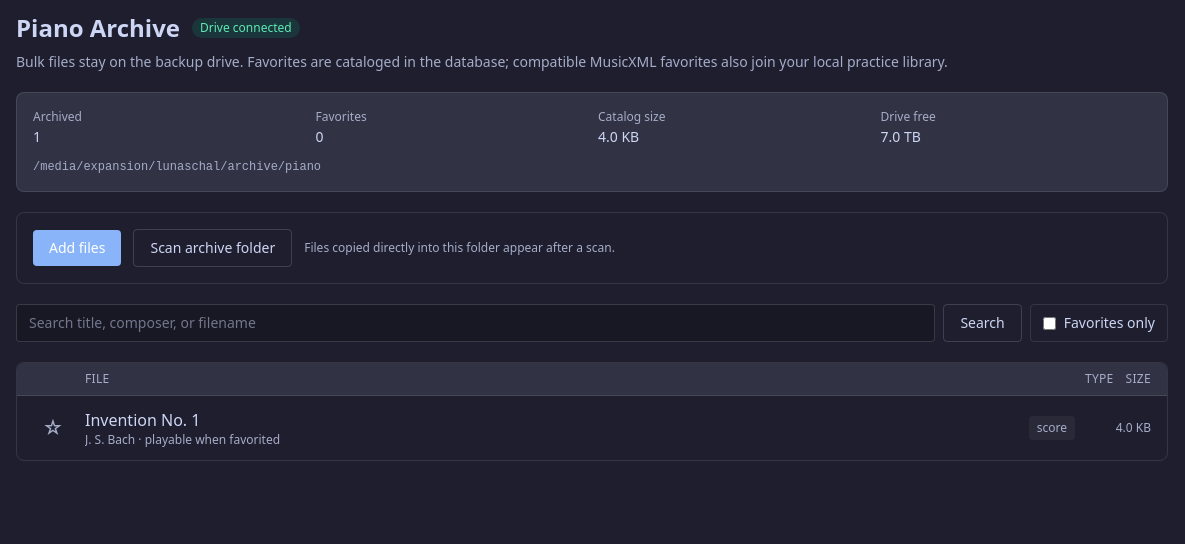
Test: PianoArchive › favorites compatible MusicXML into the practice library
The width and height of the screenshot is (1185, 544).
Click the button named "Favorite Invention No. 1" at (53, 428), box [33,414,73,442]
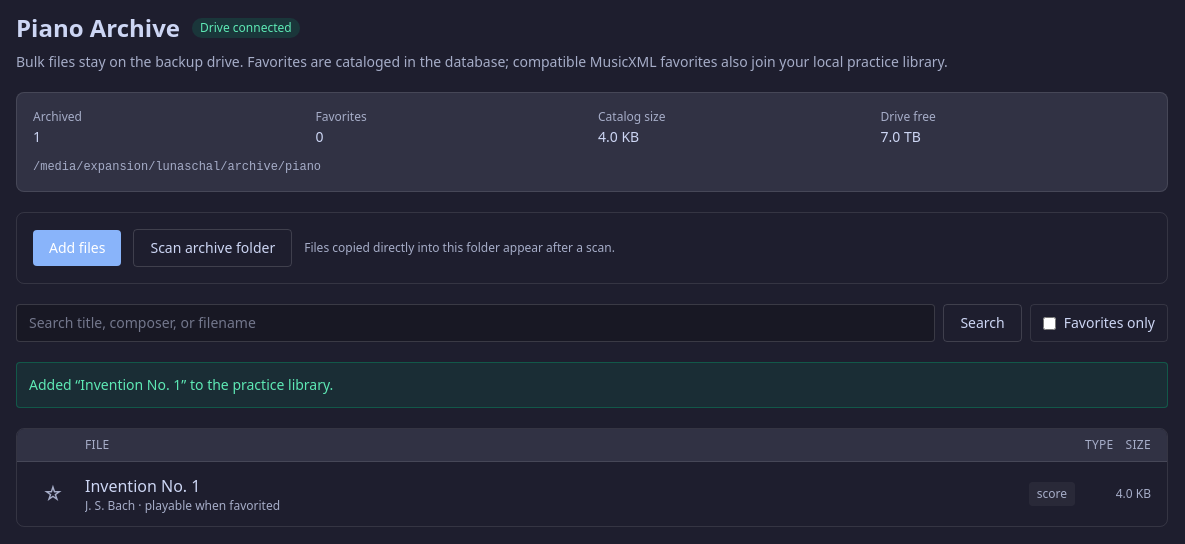
expect the text "Added “Invention No. 1” to the practice library." is shown: met, box [16,362,1168,408]
